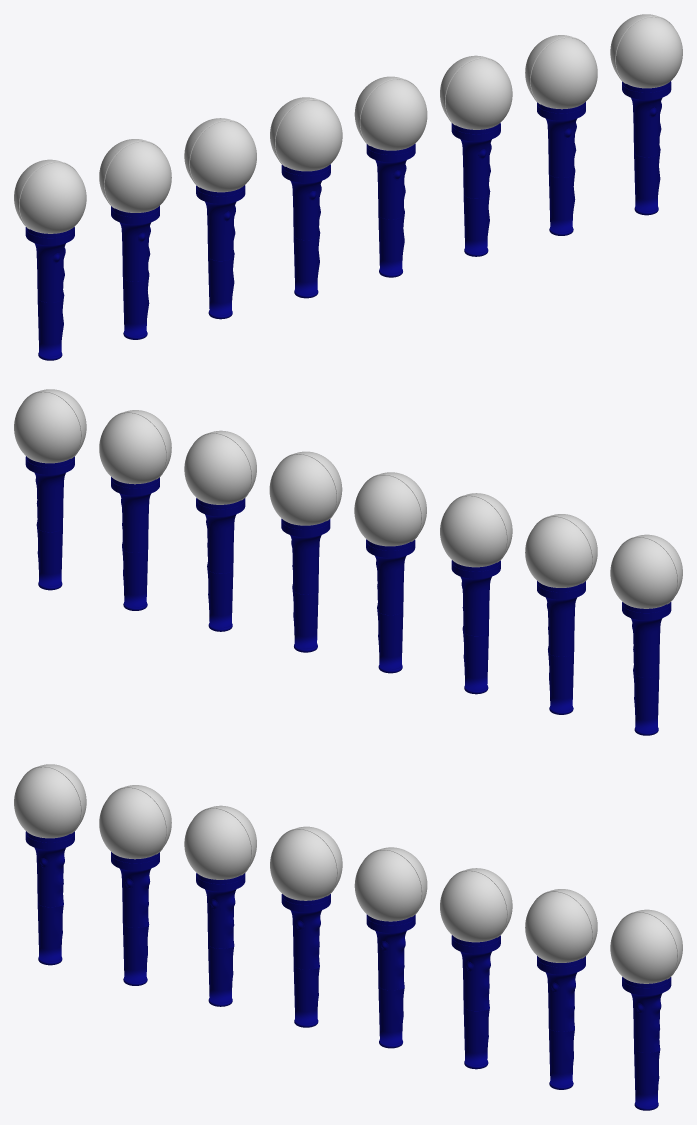
Rendered from wand.glb.
3 views of the same model, one above another, from view 1: azimuth 30°, elevation 25°; view 2: azimuth 150°, elevation 25°; view 3: azimuth 330°, elevation 25° (orthographic).
Visible parts, largest first — view 1: Sphere.007, Sphere.004, Sphere.005, Sphere, Sphere.002, Sphere.003, Sphere.006, Sphere.001, Skule Wand 5 -TrackOne, Skule Wand 1 - ECE, Skule Wand 4 - CIVMIN, Skule Wand 3 - MECH (+4 smaller); view 2: Sphere.007, Sphere.004, Sphere.005, Sphere, Sphere.002, Sphere.003, Sphere.006, Sphere.001, Skule Wand 5 -TrackOne, Skule Wand 1 - ECE, Skule Wand 4 - CIVMIN, Skule Wand 6 - INDY (+4 smaller); view 3: Sphere, Sphere.004, Sphere.005, Sphere.007, Sphere.003, Sphere.001, Sphere.002, Sphere.006, Skule Wand 5 -TrackOne, Skule Wand 4 - CIVMIN, Skule Wand 6 - INDY, Skule Wand 1 - ECE (+4 smaller).
Part boxes in pixels (x1,y1,x2,y2): Sphere.007: (610,14,682,88); Sphere.004: (354,76,427,150); Sphere.005: (270,97,342,171); Sphere: (14,159,86,233); Sphere.002: (184,118,256,192); Sphere.003: (440,55,512,129); Sphere.006: (525,35,597,109); Sphere.001: (99,139,171,212); Skule Wand 5 -TrackOne: (366,143,415,277); Skule Wand 1 - ECE: (25,227,74,360); Skule Wand 4 - CIVMIN: (281,164,330,298); Skule Wand 3 - MECH: (196,185,245,319); Sphere.007: (14,389,86,463); Sphere.004: (269,451,342,525); Sphere.005: (354,472,426,546); Sphere: (610,534,682,608); Sphere.002: (440,493,512,567); Sphere.003: (184,430,256,504); Sphere.006: (99,410,171,484); Sphere.001: (525,514,597,587); Skule Wand 5 -TrackOne: (281,518,330,652); Skule Wand 1 - ECE: (622,602,671,735); Skule Wand 4 - CIVMIN: (366,539,415,673); Skule Wand 6 - INDY: (196,498,245,631); Sphere: (14,764,86,838); Sphere.004: (354,847,427,921); Sphere.005: (270,826,342,900); Sphere.007: (610,909,682,983); Sphere.003: (440,868,512,942); Sphere.001: (99,785,171,859); Sphere.002: (184,805,256,879); Sphere.006: (525,889,597,962); Skule Wand 5 -TrackOne: (366,914,415,1048); Skule Wand 4 - CIVMIN: (281,894,330,1027); Skule Wand 6 - INDY: (451,935,500,1069); Skule Wand 1 - ECE: (25,831,74,965).
Bounding box in the file's own units: 0.775 × 0.2173 × 0.075.
